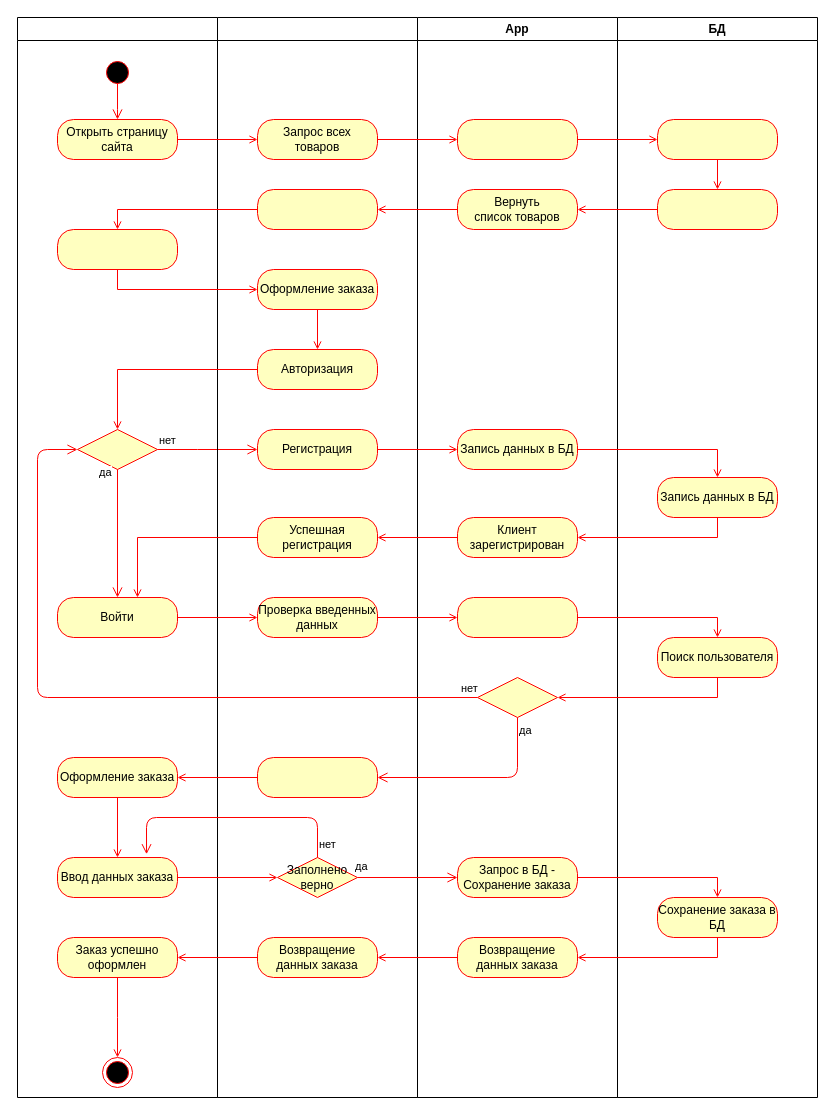
The diagram is 835 pixels wide and 1115 high, and some of its shapes have lost their labels. Here are the shapes that lost their labels. From the top down, the box of each, then its label:
(456, 118, 578, 160): Поиск всех товаров
(656, 118, 778, 160): select всех товаров
(256, 188, 378, 230): Отображение всех товаров
(656, 188, 778, 230): return списка товаров
(56, 228, 178, 270): Выбор товара
(76, 428, 158, 470): Уч. запись
(16, 16, 218, 1098): Клиент
(216, 16, 418, 1098): Сайт
(456, 596, 578, 638): Запрос в БД - поиск пользователя
(476, 676, 558, 718): Данные верны
(256, 756, 378, 798): Успешная авторизация
